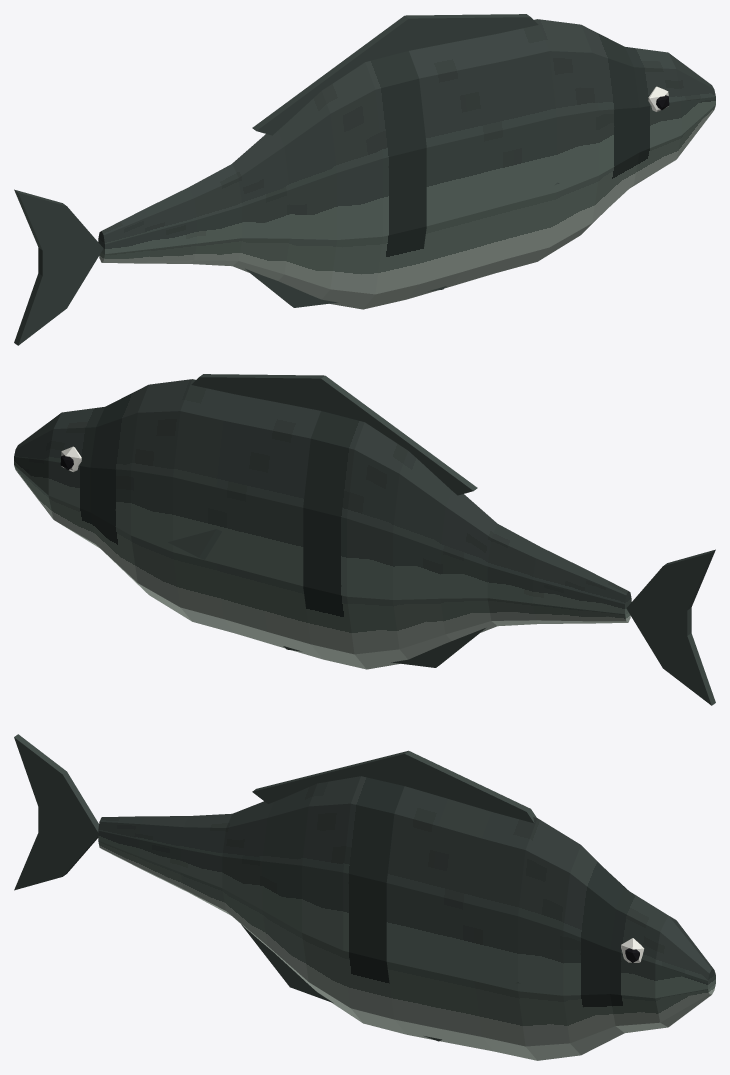
The model's file is luderick.glb.
3 views of the same model, one above another, from view 1: azimuth 30°, elevation 25°; view 2: azimuth 150°, elevation 25°; view 3: azimuth 330°, elevation 25° (orthographic).
Parts seen in each view (by area): view 1: fish_luderick; view 2: fish_luderick; view 3: fish_luderick.
Boxes of the visible parts, <box> form: fish_luderick: <box>14,14,715,345</box>; fish_luderick: <box>14,374,715,705</box>; fish_luderick: <box>14,734,715,1060</box>.
Bounding box in the file's own units: 1.14 × 0.4423 × 0.1417.
4 materials, 1 textured.
